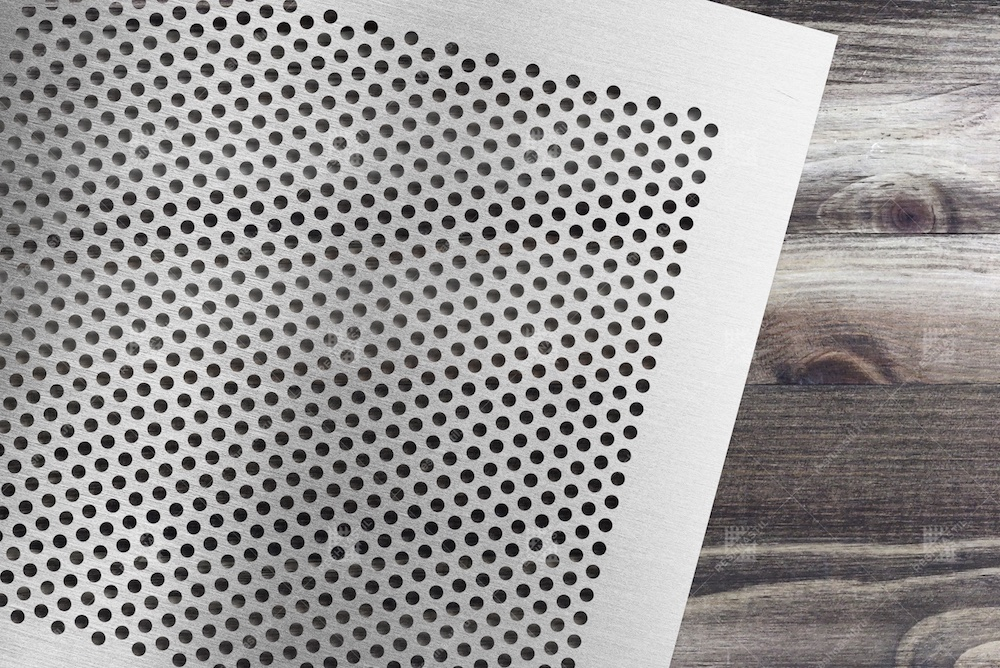Hole: (684, 103, 705, 123), (644, 93, 665, 113), (412, 67, 432, 88), (515, 169, 534, 191), (702, 121, 722, 141), (429, 86, 450, 105), (684, 190, 703, 210), (604, 81, 623, 101), (498, 66, 517, 86), (671, 237, 690, 257), (614, 209, 633, 229), (402, 28, 421, 48), (419, 45, 439, 64), (689, 168, 710, 186), (582, 239, 603, 257), (533, 187, 551, 208), (661, 110, 680, 129), (551, 118, 570, 137), (607, 232, 626, 251), (464, 120, 483, 139), (695, 144, 715, 162), (561, 158, 581, 176), (460, 56, 478, 76), (443, 39, 461, 59), (658, 284, 678, 302), (618, 273, 638, 291), (474, 160, 494, 178), (544, 227, 562, 247), (322, 6, 339, 27), (656, 134, 674, 153), (621, 99, 639, 118), (638, 117, 657, 135), (643, 180, 661, 199), (609, 146, 627, 165), (592, 130, 610, 149), (484, 51, 503, 69), (637, 203, 655, 222), (648, 244, 667, 262), (494, 90, 512, 109), (437, 63, 456, 81), (453, 79, 471, 98), (539, 165, 557, 184), (573, 199, 592, 217), (601, 257, 620, 275), (550, 205, 569, 223), (498, 154, 517, 172), (447, 103, 466, 121), (379, 35, 398, 53), (390, 75, 408, 94), (561, 246, 580, 264), (595, 280, 614, 298), (546, 141, 563, 161), (506, 131, 523, 151), (407, 90, 424, 110), (440, 126, 460, 143), (679, 128, 697, 146), (626, 163, 644, 181), (575, 112, 593, 130), (581, 89, 599, 107), (541, 78, 559, 96), (586, 153, 604, 171), (665, 260, 683, 278), (471, 97, 489, 115), (642, 267, 660, 285), (362, 18, 380, 36), (458, 143, 476, 161), (493, 178, 511, 196), (616, 122, 633, 141), (633, 140, 650, 159), (667, 174, 684, 193), (678, 214, 695, 233), (565, 71, 582, 90), (557, 96, 576, 113), (569, 135, 586, 154), (620, 186, 637, 205), (597, 192, 614, 211), (478, 74, 495, 93), (522, 147, 539, 166), (652, 307, 671, 324), (635, 291, 654, 308), (567, 223, 586, 240), (373, 57, 390, 76), (630, 313, 647, 332), (646, 331, 665, 348), (525, 61, 541, 81), (529, 124, 545, 144), (661, 198, 679, 215), (598, 107, 616, 124), (518, 85, 535, 103), (534, 102, 552, 119), (580, 176, 597, 194), (397, 52, 414, 70), (356, 42, 374, 59), (424, 110, 442, 127), (578, 262, 595, 280), (612, 297, 630, 314), (489, 114, 505, 133), (557, 182, 573, 201), (673, 151, 690, 168), (603, 171, 620, 188), (512, 108, 529, 125), (625, 250, 642, 267), (339, 24, 356, 41), (655, 221, 671, 239), (632, 226, 648, 244), (482, 136, 498, 154), (591, 216, 607, 233), (528, 213, 544, 230), (511, 195, 526, 213), (650, 158, 666, 174)
